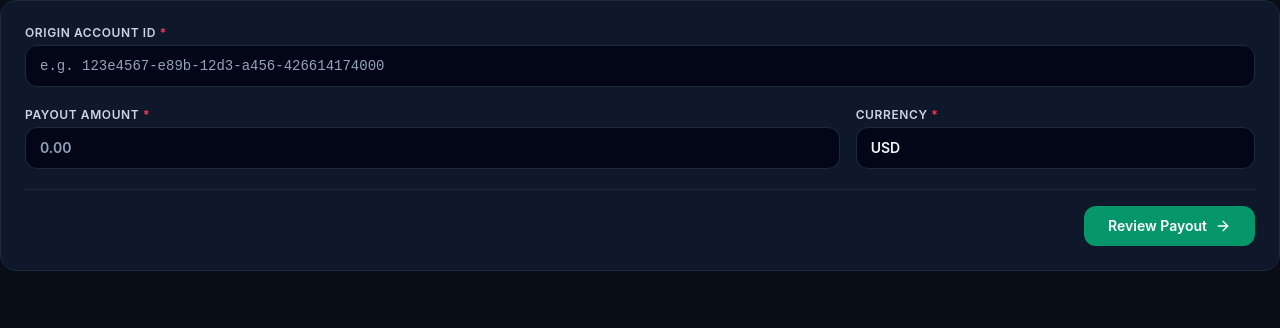
Test case: PayoutForm Component › validates empty and invalid fields client-side
Click the button with test id "payout-review-button" at (1170, 226), box top-left (1084, 206), bottom-right (1255, 246)
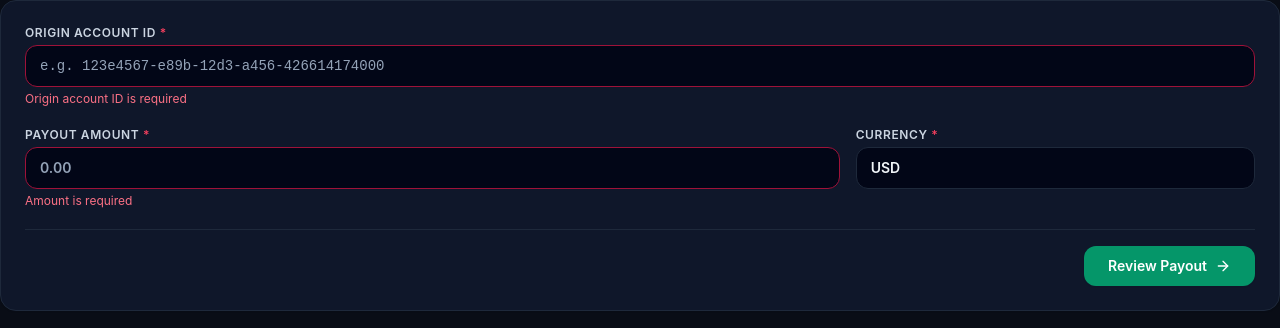
Expected: the text "Origin account ID is required" is shown, top-left (25, 91), bottom-right (187, 106)
Expected: the text "Amount is required" is shown, top-left (25, 193), bottom-right (132, 208)
